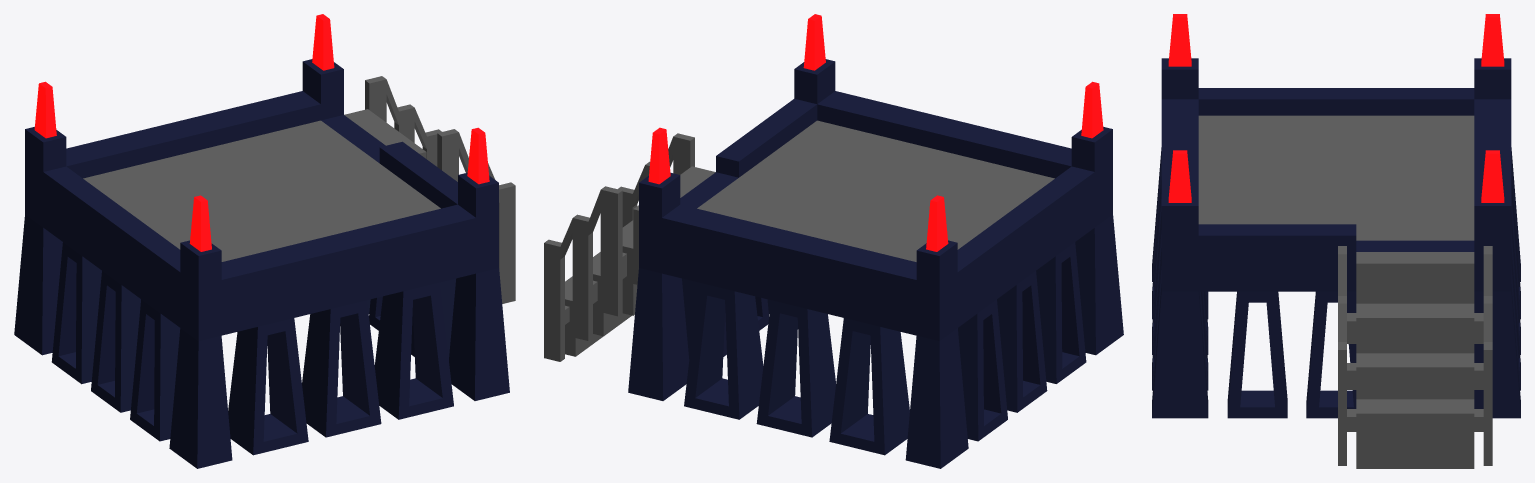
Rendered from LandingPad.fbx.
3 renders of one model, left to right at view 1: azimuth 30°, elevation 25°; view 2: azimuth 150°, elevation 25°; view 3: azimuth 270°, elevation 25°, orthographic.
Parts seen in each view (by area): view 1: LandingPad; view 2: LandingPad; view 3: LandingPad.
Boxes of the visible parts, bbox=[...] form: LandingPad: bbox=[14, 14, 515, 468]; LandingPad: bbox=[544, 14, 1123, 468]; LandingPad: bbox=[1152, 14, 1520, 468].
Bounding box in the file's own units: 739 × 434 × 563.
